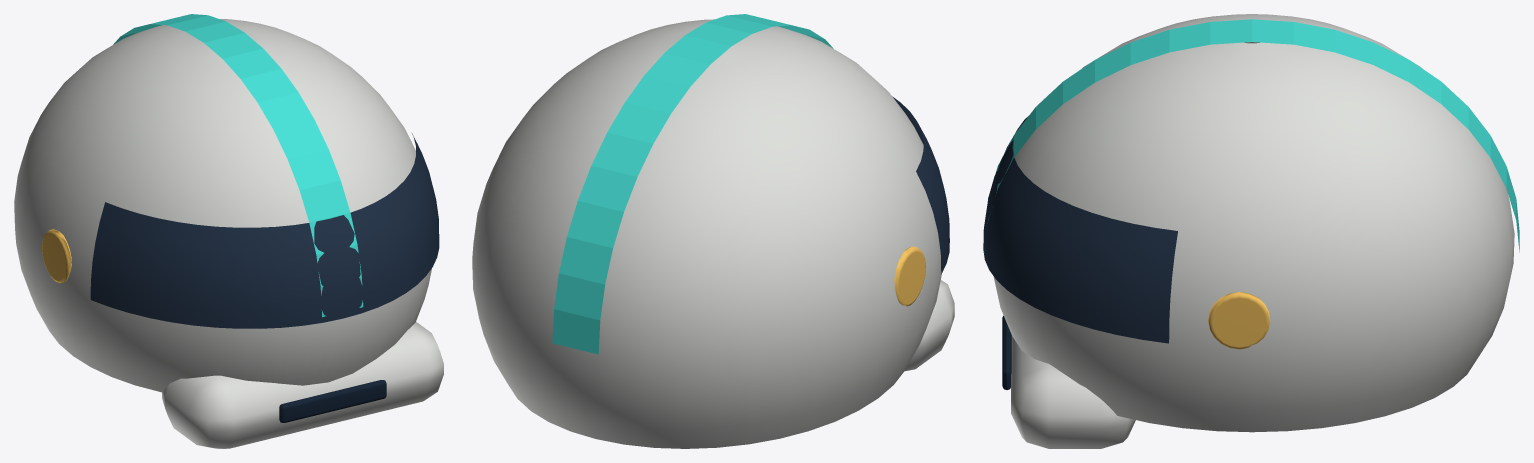
Rendered from helmet.glb.
3 renders of one model, left to right at view 1: azimuth 30°, elevation 25°; view 2: azimuth 150°, elevation 25°; view 3: azimuth 270°, elevation 25°, orthographic. The views are drawn at different scales.
Visible parts, largest first — view 1: helmet / consolidated CC0 mesh; view 2: helmet / consolidated CC0 mesh; view 3: helmet / consolidated CC0 mesh.
Part boxes in pixels (x1,y1,x2,y2): helmet / consolidated CC0 mesh: [14, 14, 443, 448]; helmet / consolidated CC0 mesh: [472, 14, 954, 448]; helmet / consolidated CC0 mesh: [983, 14, 1519, 448].
Bounding box in the file's own units: 0.29 × 0.2535 × 0.3389.
